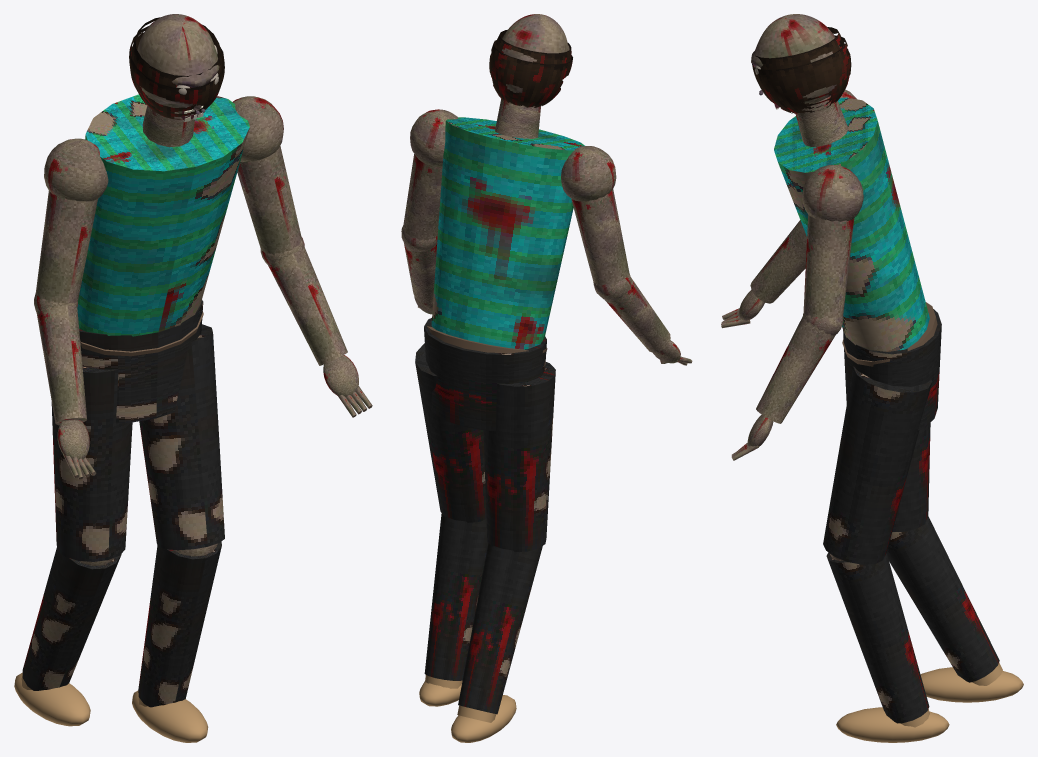
Rendered from Zombie_149.glb.
3 views of the same model, side by side, from view 1: azimuth 30°, elevation 25°; view 2: azimuth 150°, elevation 25°; view 3: azimuth 270°, elevation 25° (orthographic). The views are drawn at different scales.
Visible parts, largest first — view 1: Zombie_149, object 16, object 3, object 10, object 42, object 41, object 11, object 4; view 2: Zombie_149, object 42, object 16, object 3, object 10, object 41, object 2; view 3: Zombie_149, object 10, object 42, object 16, object 3, object 41, object 11, object 9, object 4.
Boxes of the visible parts, x1,y1,x2,y2 form: Zombie_149: (14, 94, 302, 742); object 16: (137, 14, 219, 113); object 3: (36, 305, 86, 425); object 10: (267, 247, 347, 365); object 42: (129, 26, 224, 119); object 41: (131, 17, 222, 117); object 11: (323, 355, 358, 396); object 4: (57, 420, 89, 459); Zombie_149: (402, 99, 629, 742); object 42: (489, 40, 572, 107); object 16: (502, 14, 569, 92); object 3: (605, 277, 670, 352); object 10: (404, 242, 437, 303); object 41: (492, 30, 571, 98); object 2: (593, 274, 631, 300); Zombie_149: (774, 89, 1023, 742); object 10: (756, 316, 835, 423); object 42: (752, 35, 851, 114); object 16: (751, 14, 839, 104); object 3: (750, 220, 806, 303); object 41: (754, 27, 848, 109); object 11: (747, 415, 773, 446); object 9: (803, 313, 843, 335); object 4: (739, 290, 764, 320).
Bounding box in the file's own units: 0.7097 × 1.71 × 0.666.
16 materials, 6 textured.
